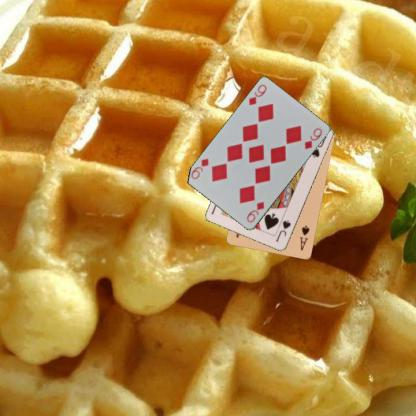9d: (244, 199, 266, 224), (246, 82, 268, 107)
As: (297, 223, 311, 252)
Js: (273, 218, 292, 243)
